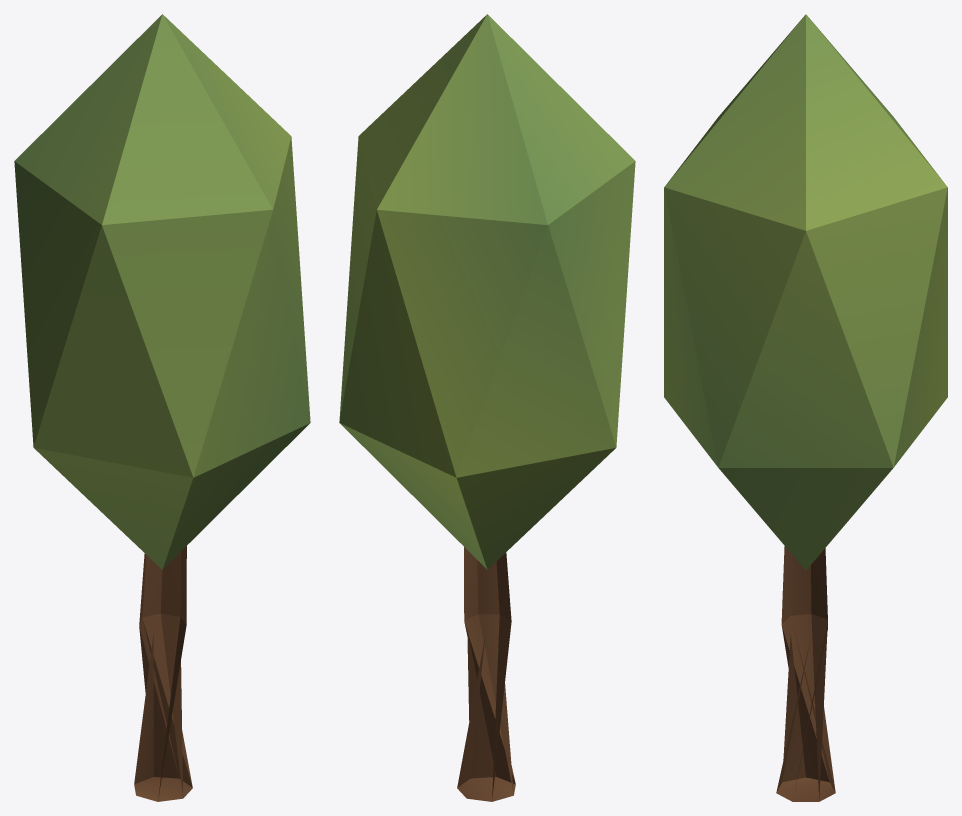
File: forest_poplar.glb
The picture shows the model from 3 angles, left to right: view 1: azimuth 30°, elevation 25°; view 2: azimuth 150°, elevation 25°; view 3: azimuth 270°, elevation 25°; orthographic projection.
Parts seen in each view (by area): view 1: Poplar; view 2: Poplar; view 3: Poplar.
Boxes of the visible parts, box(x1,y1,x2,y2) form: Poplar: box(14, 14, 310, 801); Poplar: box(339, 14, 635, 801); Poplar: box(664, 14, 947, 801).
Size of the model in its own units: 1.95 by 5.61 by 1.86.
